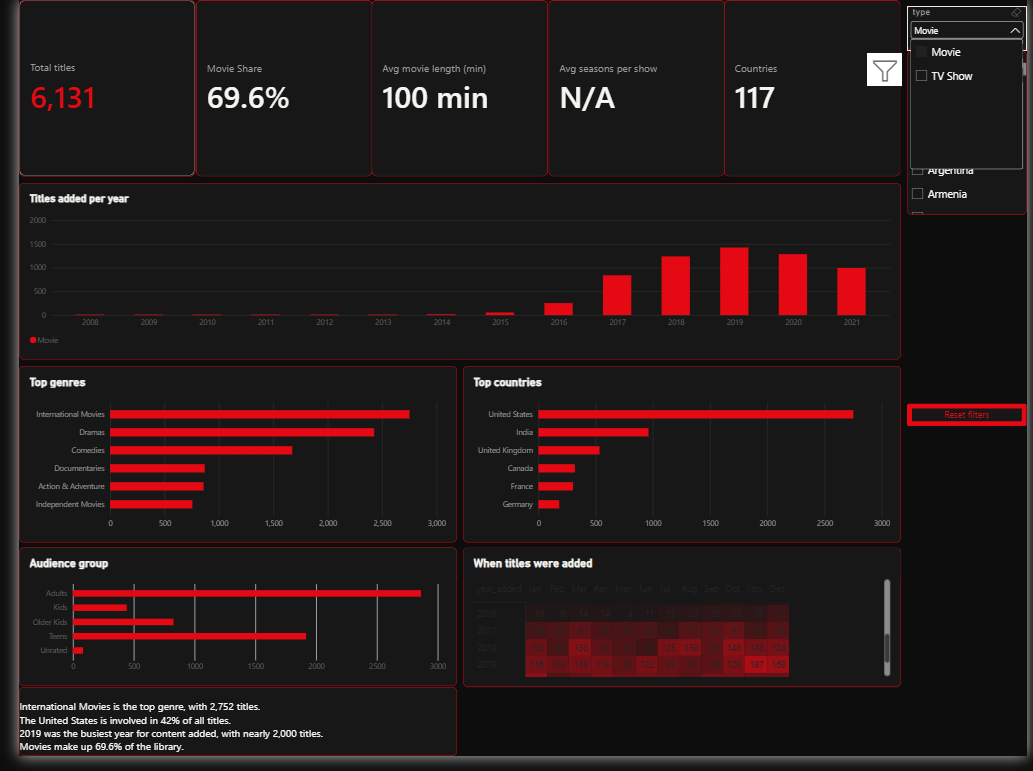

This screenshot's page, from the dashboard's own definition file:
{"tool":"powerbi","page":{"name":"Page 1","canvas":[1600,1200],"ordinal":0},"visuals":[{"type":"cardVisual","fields":{"Data":["netflix_cleaned.Total Titles Label"]},"box":[0,0,280,280],"z":0},{"type":"cardVisual","fields":{"Data":["netflix_cleaned.Movie Share"]},"box":[280,0,280,280],"z":1000},{"type":"cardVisual","fields":{"Data":["netflix_cleaned.Avg Movie Length"]},"box":[560,0,280,280],"z":2000},{"type":"cardVisual","fields":{"Data":["netflix_cleaned.Avg Seasons"]},"box":[840,0,280,280],"z":3000},{"type":"cardVisual","fields":{"Data":["netflix_cleaned.Countries"]},"box":[1120,0,280,280],"z":4000},{"type":"columnChart","title":" Titles added per year","fields":{"Category":["netflix_cleaned.year_added"],"Y":["netflix_cleaned.Total Titles"],"Series":["netflix_cleaned.type"]},"box":[0,290,1400,280],"z":5000},{"type":"clusteredBarChart","title":"Top genres","fields":{"Category":["netflix_genres.genre"],"Y":["CountNonNull(netflix_genres.show_id)"]},"box":[0,580,695,280],"z":6000},{"type":"clusteredBarChart","title":"Top countries","fields":{"Category":["netflix_countries.country"],"Y":["netflix_countries.Titles by Country"]},"box":[705,580,695,280],"z":7000},{"type":"slicer","fields":{"Values":["netflix_cleaned.type"]},"box":[1410,10,190,70],"z":8000},{"type":"slicer","fields":{"Values":["netflix_countries.country"]},"box":[1410,80,190,260],"z":9000},{"type":"actionButton","box":[1410,640,190,36],"z":9001},{"type":"clusteredBarChart","title":"Audience group","fields":{"Category":["netflix_cleaned.audience_group"],"Y":["netflix_cleaned.Total Titles"]},"box":[0,870,695,220],"z":9002},{"type":"pivotTable","title":"When titles were added","fields":{"Rows":["netflix_cleaned.year_added"],"Columns":["netflix_cleaned.month_name"],"Values":["netflix_cleaned.Total Titles"]},"box":[705,870,695,220],"z":9003},{"type":"textbox","box":[0,1090,1400,110],"z":9004}]}

Visuals, with their boxes in screenshot pixels (x1, y1, x2, y2):
cardVisual - netflix_cleaned.Total Titles Label: 13, 13, 191, 191
cardVisual - netflix_cleaned.Movie Share: 191, 13, 369, 191
cardVisual - netflix_cleaned.Avg Movie Length: 369, 13, 546, 191
cardVisual - netflix_cleaned.Avg Seasons: 546, 13, 724, 191
cardVisual - netflix_cleaned.Countries: 724, 13, 902, 191
" Titles added per year" columnChart: 13, 197, 902, 375
"Top genres" clusteredBarChart: 13, 381, 454, 559
"Top countries" clusteredBarChart: 461, 381, 902, 559
slicer - netflix_cleaned.type: 908, 20, 1029, 64
slicer - netflix_countries.country: 908, 64, 1029, 229
actionButton: 908, 420, 1029, 442
"Audience group" clusteredBarChart: 13, 565, 454, 705
"When titles were added" pivotTable: 461, 565, 902, 705
textbox: 13, 705, 902, 770
